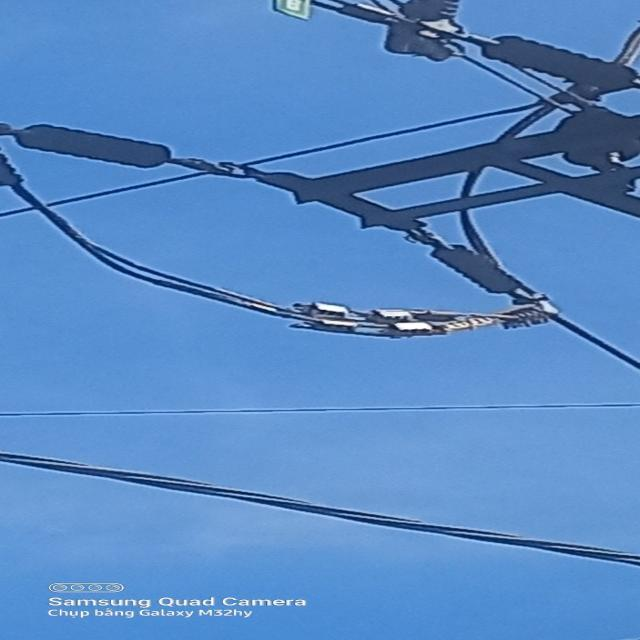wire: (0, 450, 640, 572), (462, 56, 580, 114), (552, 317, 640, 372)
